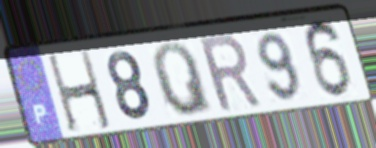6: (304, 16, 357, 104)
8: (106, 49, 154, 123)
9: (254, 29, 303, 104)
H: (44, 48, 115, 136)
Q: (151, 40, 217, 119)
R: (195, 31, 265, 116)
